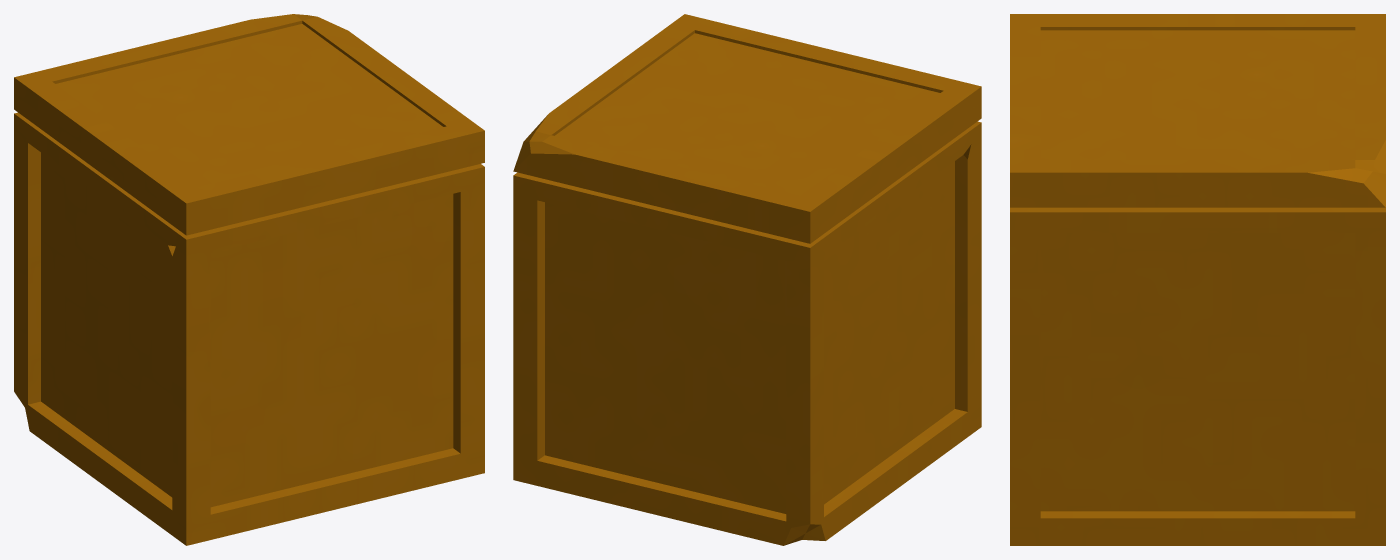
The picture shows the model from 3 angles, left to right: view 1: azimuth 30°, elevation 25°; view 2: azimuth 150°, elevation 25°; view 3: azimuth 270°, elevation 25°; orthographic projection. The views are drawn at different scales.
Parts seen in each view (by area): view 1: Box 1; view 2: Box 1; view 3: Box 1.
Boxes of the visible parts, <box> form: Box 1: <box>14,14,484,545</box>; Box 1: <box>513,14,981,545</box>; Box 1: <box>1010,14,1385,545</box>.
Bounding box in the file's own units: 50 × 54.8 × 50.
